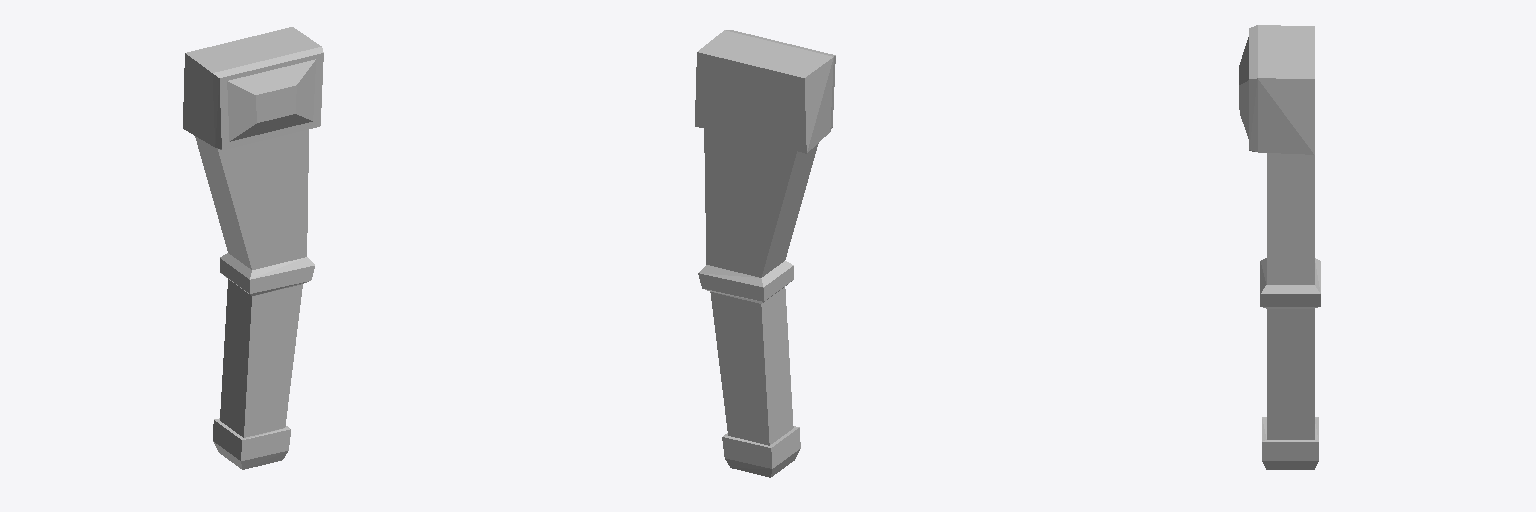
File: arm.obj
3 views of the same model, side by side, from view 1: azimuth 30°, elevation 25°; view 2: azimuth 150°, elevation 25°; view 3: azimuth 270°, elevation 25° (orthographic).
Parts seen in each view (by area): view 1: pCube8; view 2: pCube8; view 3: pCube8.
Boxes of the visible parts, x1=… form: pCube8: x1=183, y1=27, x2=323, y2=469; pCube8: x1=695, y1=30, x2=835, y2=477; pCube8: x1=1239, y1=25, x2=1320, y2=469.
Size of the model in its own units: 0.1718 by 0.5988 by 0.1083.